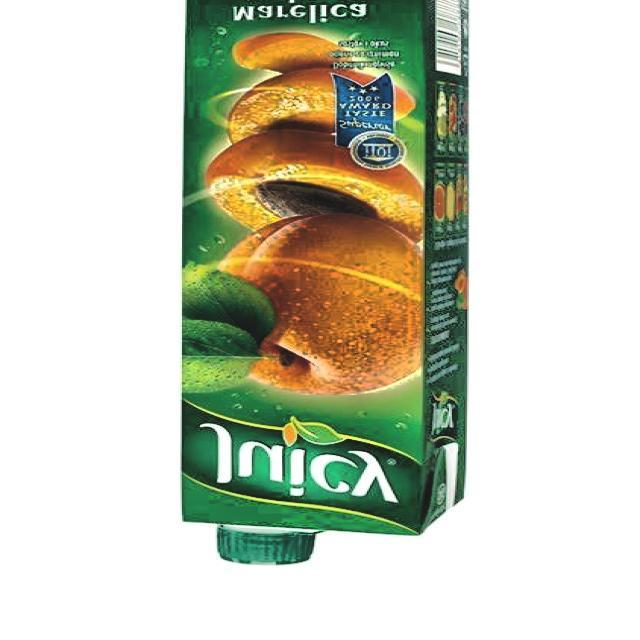cardboard: (179, 0, 471, 566)
